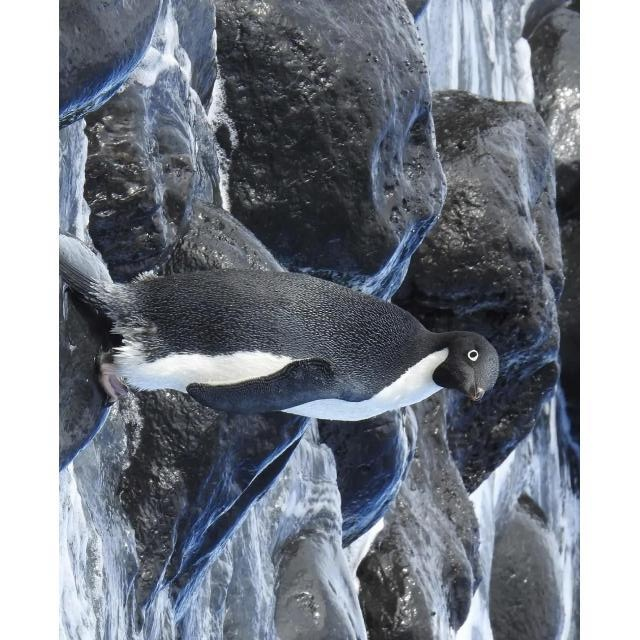penguin: (65, 266, 501, 422)
